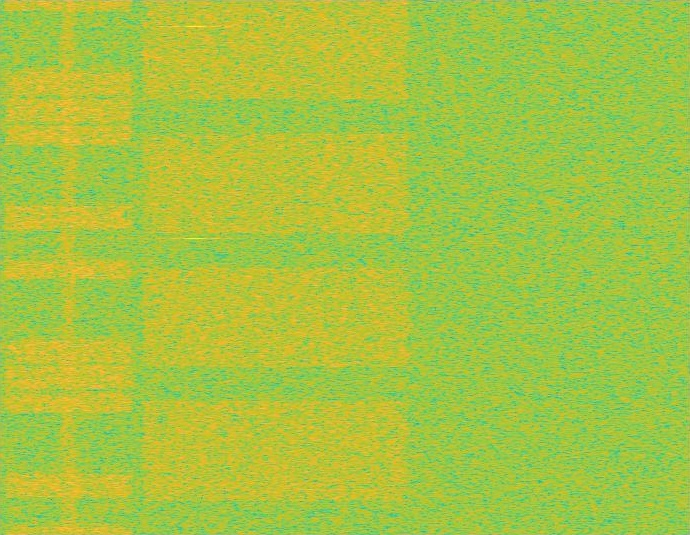5G: (138, 0, 414, 534)
DSSS: (60, 0, 78, 534)
LTE: (0, 0, 138, 534)
Radar: (188, 0, 202, 534)
